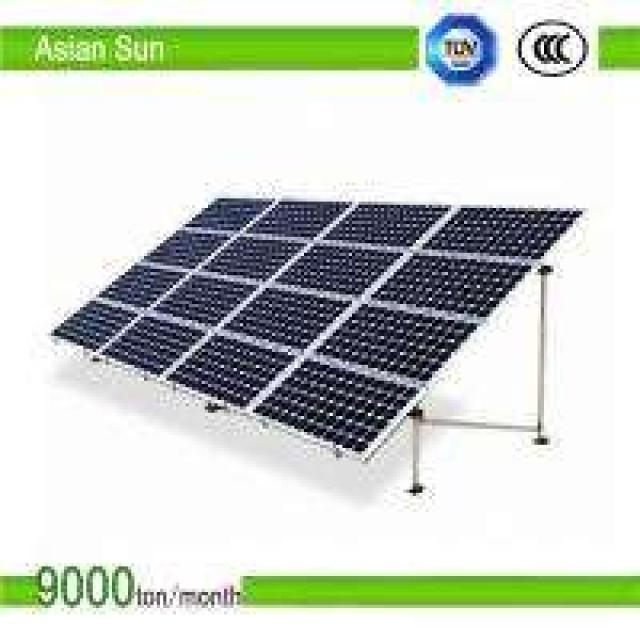clean-solar-panel: (55, 199, 581, 458)
